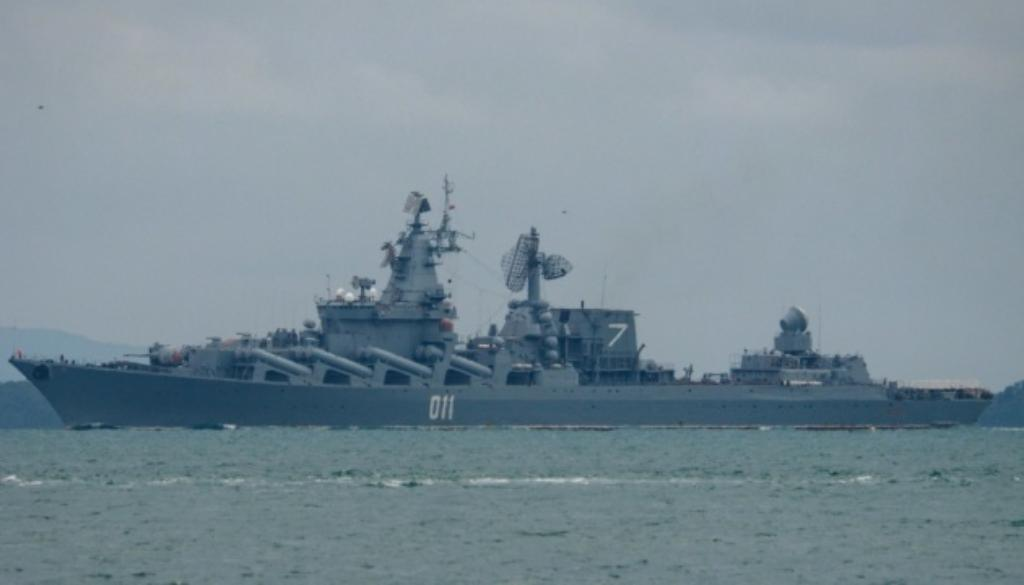Warship: (2, 182, 994, 438)
